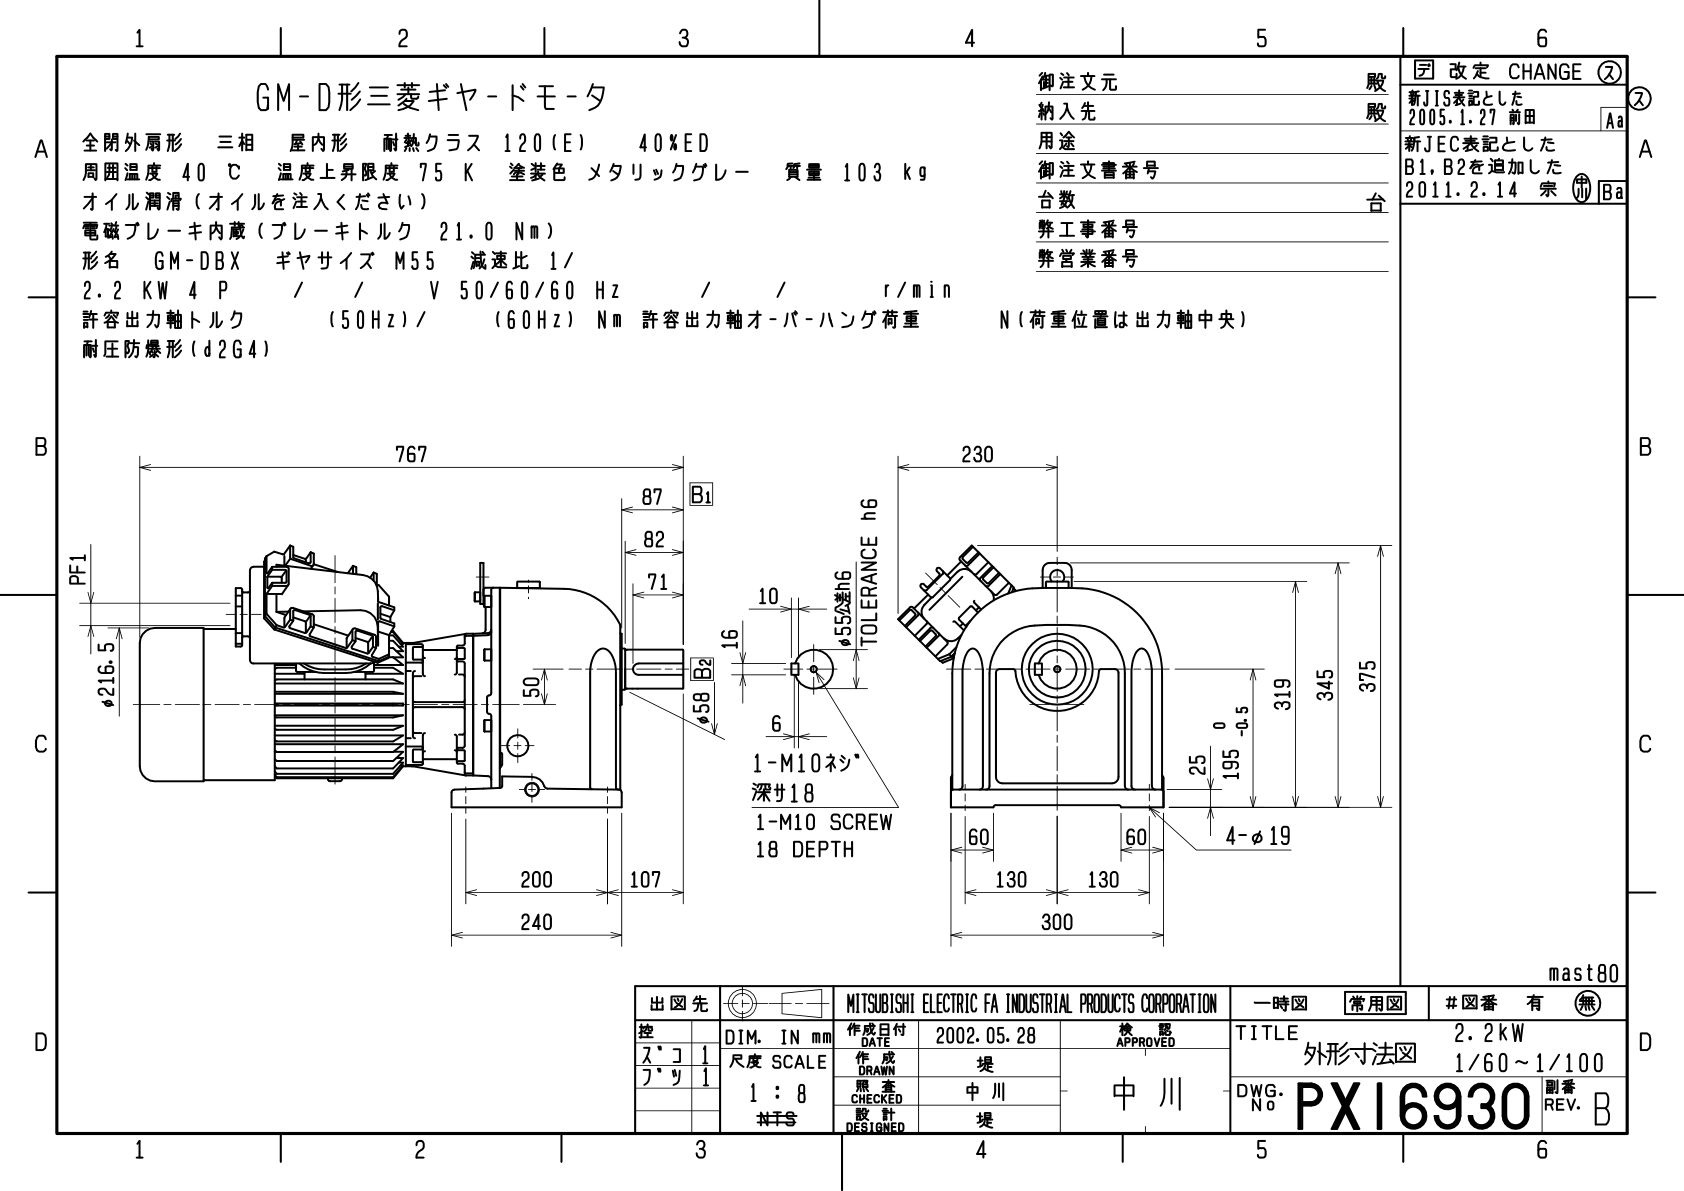GM_D_耐圧屋内_三相_脚: (1, 1, 1669, 1172)
